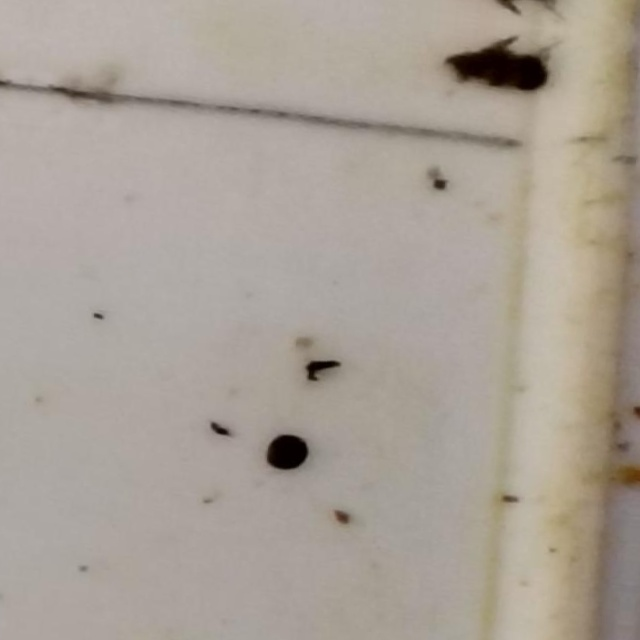varroa: (261, 431, 310, 477)
